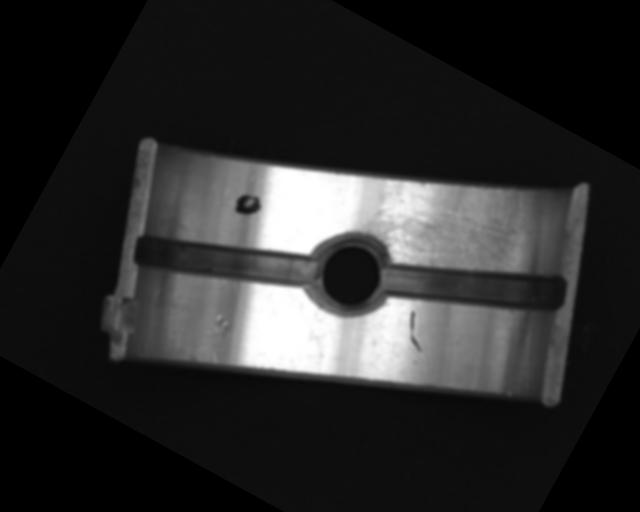blot: (231, 187, 266, 222)
bruise: (202, 309, 238, 345)
gap: (372, 200, 573, 370), (129, 181, 319, 338)
hole: (297, 219, 405, 328)
nick: (395, 307, 439, 354)
scratch: (348, 128, 548, 318)
